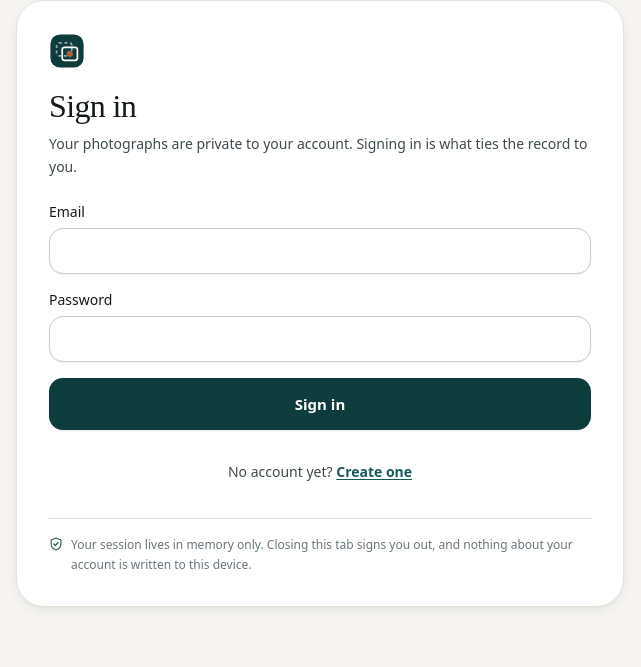
it: SignIn — registering › registers and then asks for the emailed code
This screenshot has width=641, height=667.
Click the button with test id "to-sign-up".
click(374, 472)  # box [336, 450, 412, 494]
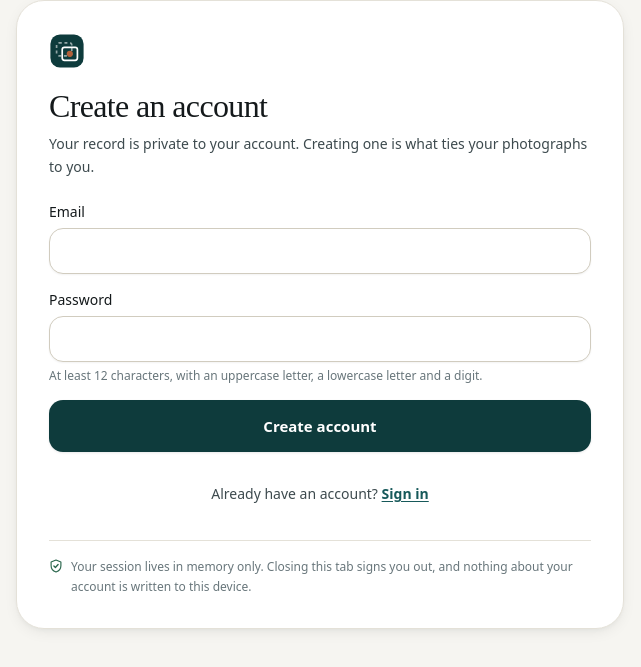
Type "new@example.com" into the field with id "auth-email".
click(320, 251); type("new@example.com")  # box [49, 228, 591, 274]
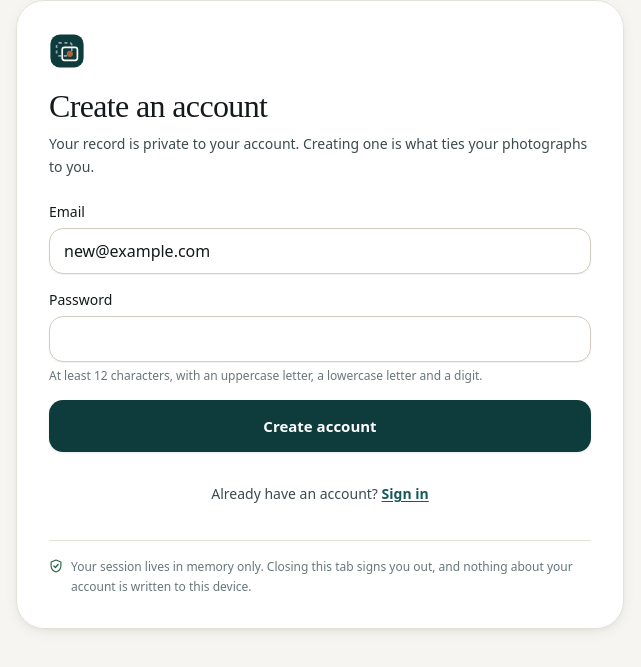
Type "correct-horse-battery-1A" into the password field with id "auth-password".
click(320, 339); type("correct-horse-battery-1A")  # box [49, 316, 591, 362]
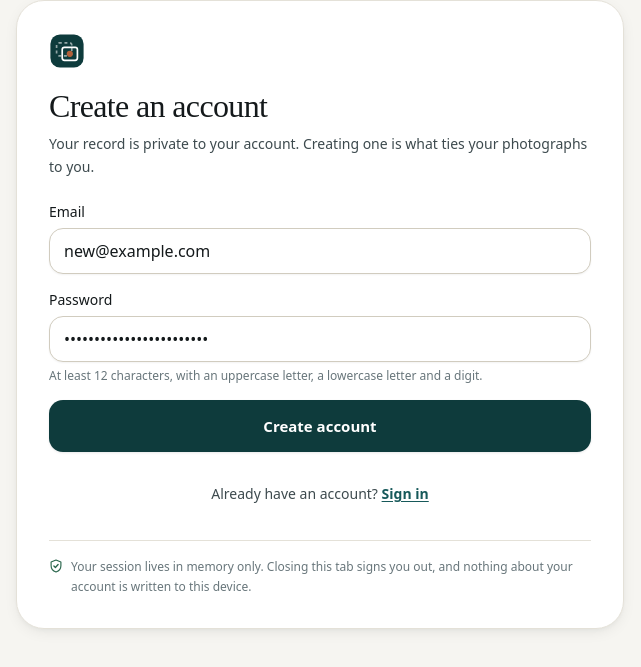
Click the button with test id "auth-submit".
click(320, 426)  # box [49, 400, 591, 452]
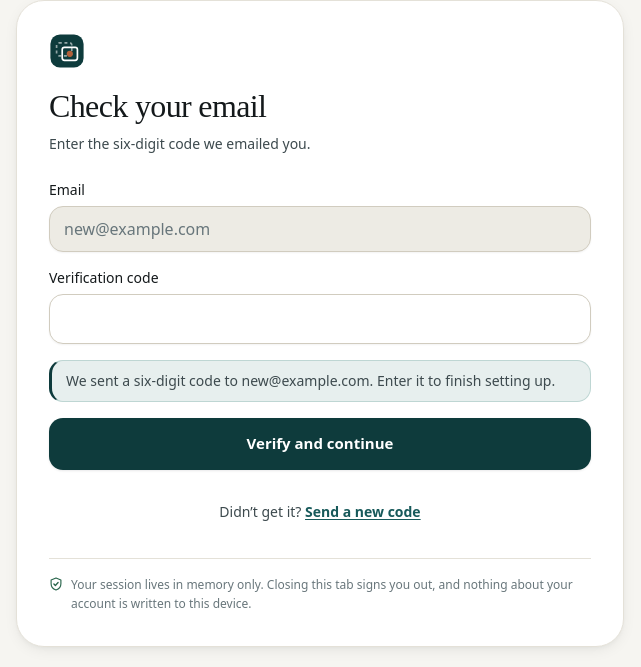
Expected: the field with id "auth-password" is shown, [49, 294, 591, 344]
Now the message shows "six-digit code", box [66, 371, 555, 390]
